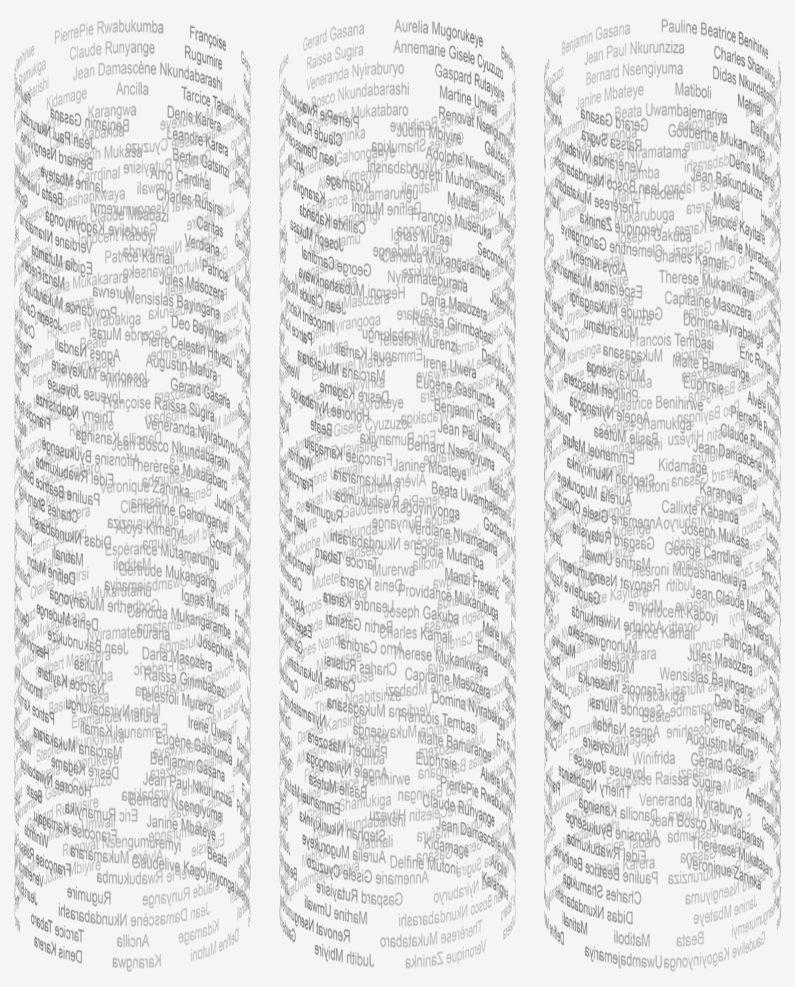
Rendered from wenndiesaeulentrauertragen.glb.
3 renders of one model, left to right at view 1: azimuth 30°, elevation 25°; view 2: azimuth 150°, elevation 25°; view 3: azimuth 270°, elevation 25°, orthographic.
Visible parts, largest first — view 1: tower; view 2: tower; view 3: tower.
Part boxes in pixels (x1,y1,x2,y2): tower: (14,19,250,971); tower: (279,19,515,968); tower: (544,18,780,971).
Bounding box in the file's own units: 4.5 × 18 × 4.5.
Materials: 1 (1 with a texture image).
